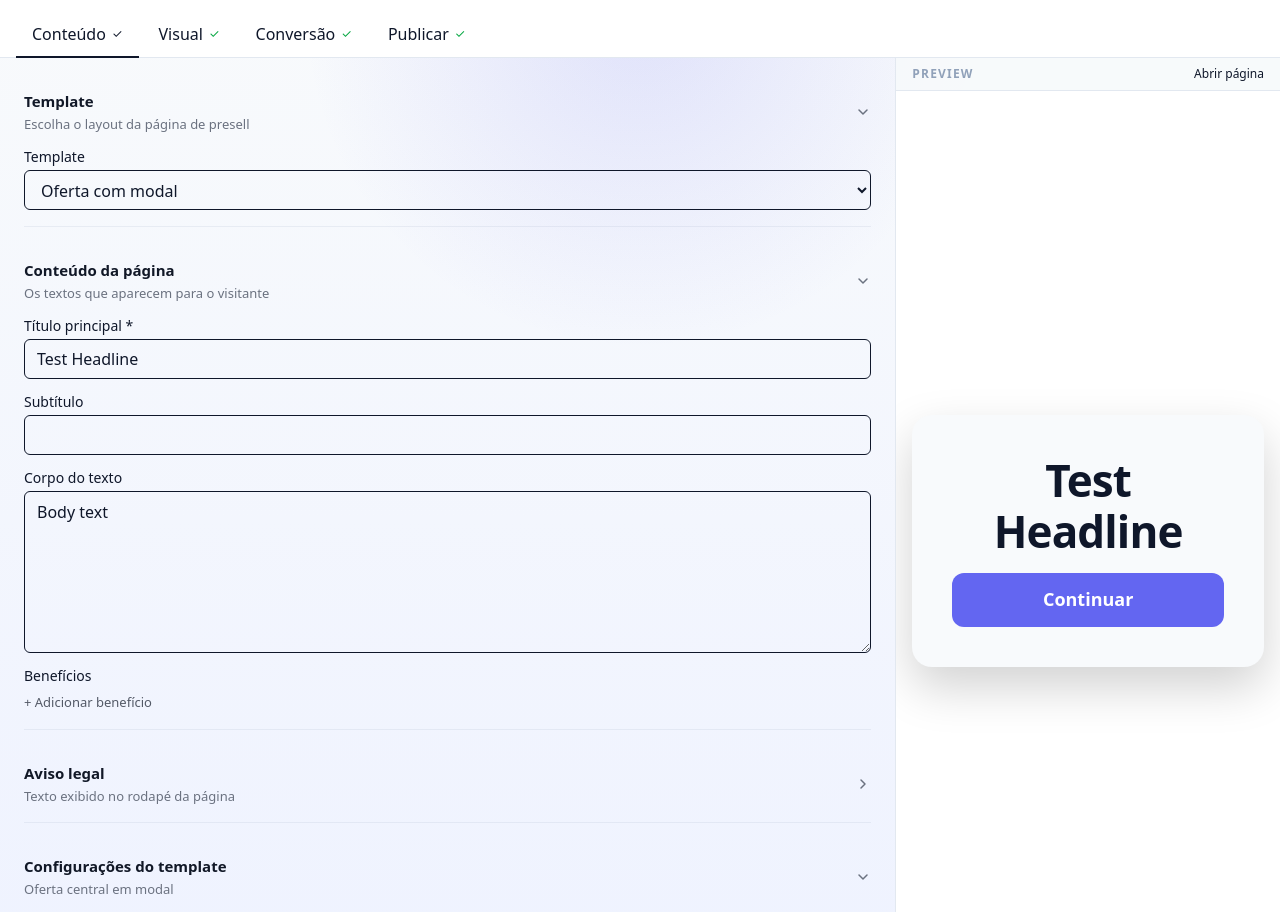
it: PresellEditPage › shows form loaded with presell data in edit mode at /presells/:id/edit
Click the button "Publicar ✓".
click(427, 35)  # box [372, 12, 482, 58]
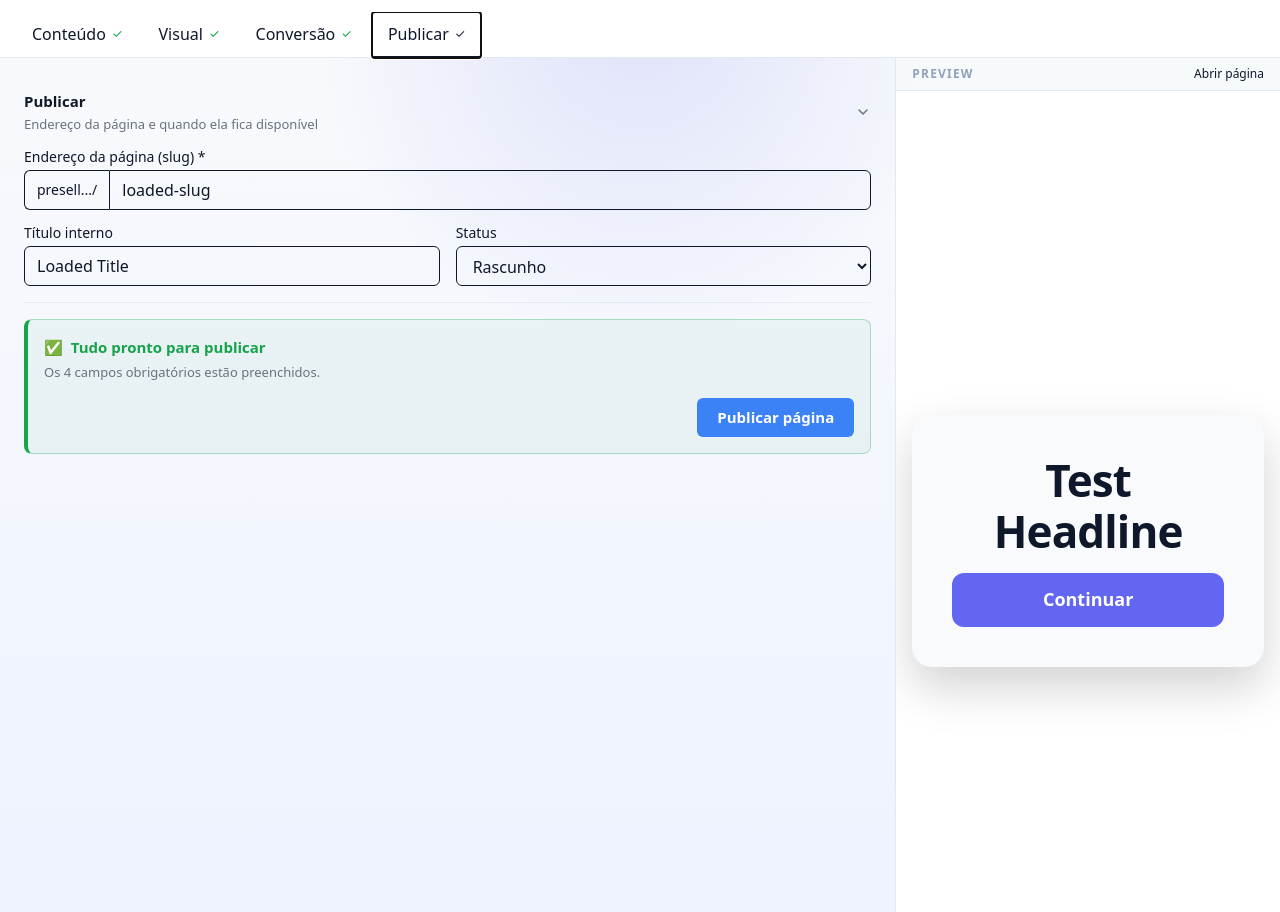
Check: the field labelled "Endereço da página (slug) *" holds "loaded-slug", box [109, 170, 871, 210]
